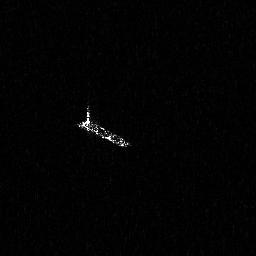ship: (72, 103, 132, 152)
